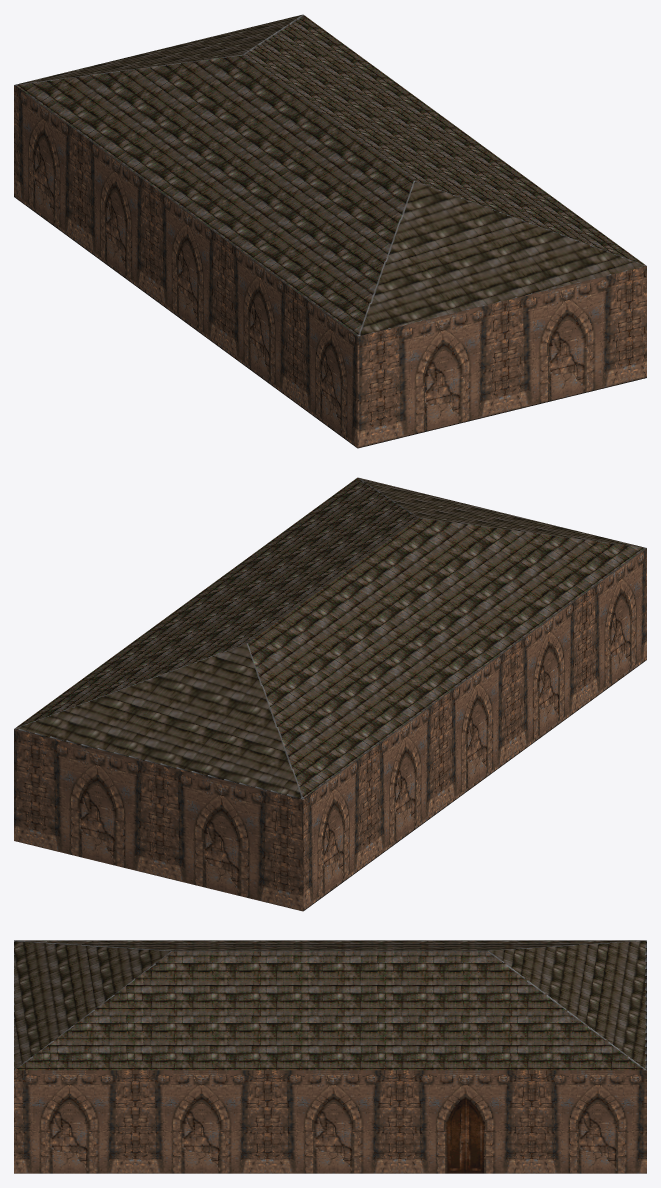
The model's file is tos-bldg07.dae.
3 renders of one model, top to bottom at view 1: azimuth 30°, elevation 25°; view 2: azimuth 150°, elevation 25°; view 3: azimuth 270°, elevation 25°, orthographic. The views are drawn at different scales.
Parts seen in each view (by area): view 1: Plane; view 2: Plane; view 3: Plane.
Part boxes in pixels (box(x1,y1,x2,y2)): Plane: box(14, 14, 646, 448); Plane: box(14, 477, 646, 911); Plane: box(14, 940, 646, 1173).
Size of the model in its own units: 0.7908 by 1.63 by 0.445.
Materials: 1 (1 with a texture image).
